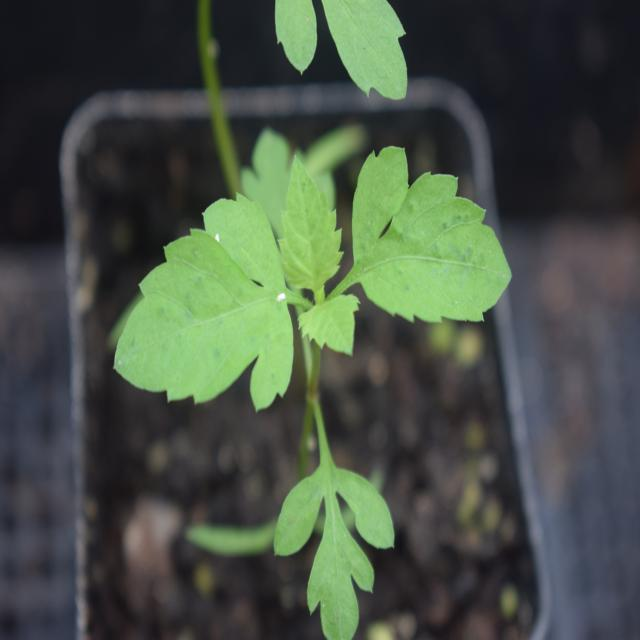Bidens pilosa: (114, 135, 520, 628)
